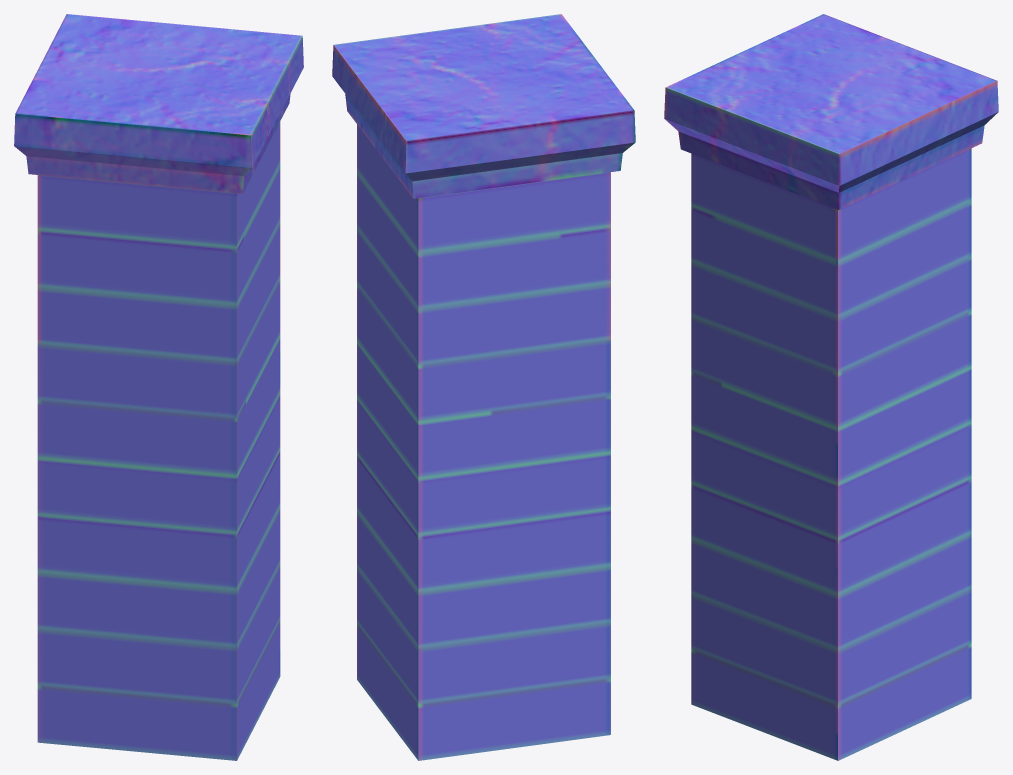
File: pillar_low.024 Instance.fbx
The picture shows the model from 3 angles, left to right: view 1: azimuth 30°, elevation 25°; view 2: azimuth 150°, elevation 25°; view 3: azimuth 270°, elevation 25°; orthographic projection. The views are drawn at different scales.
Parts seen in each view (by area): view 1: pillar_low_024__2_; view 2: pillar_low_024__2_; view 3: pillar_low_024__2_.
Part boxes in pixels (x1,y1,x2,y2): pillar_low_024__2_: [14, 14, 303, 760]; pillar_low_024__2_: [332, 14, 635, 760]; pillar_low_024__2_: [664, 14, 998, 760].
Bounding box in the file's own units: 72.66 × 148 × 72.66.
